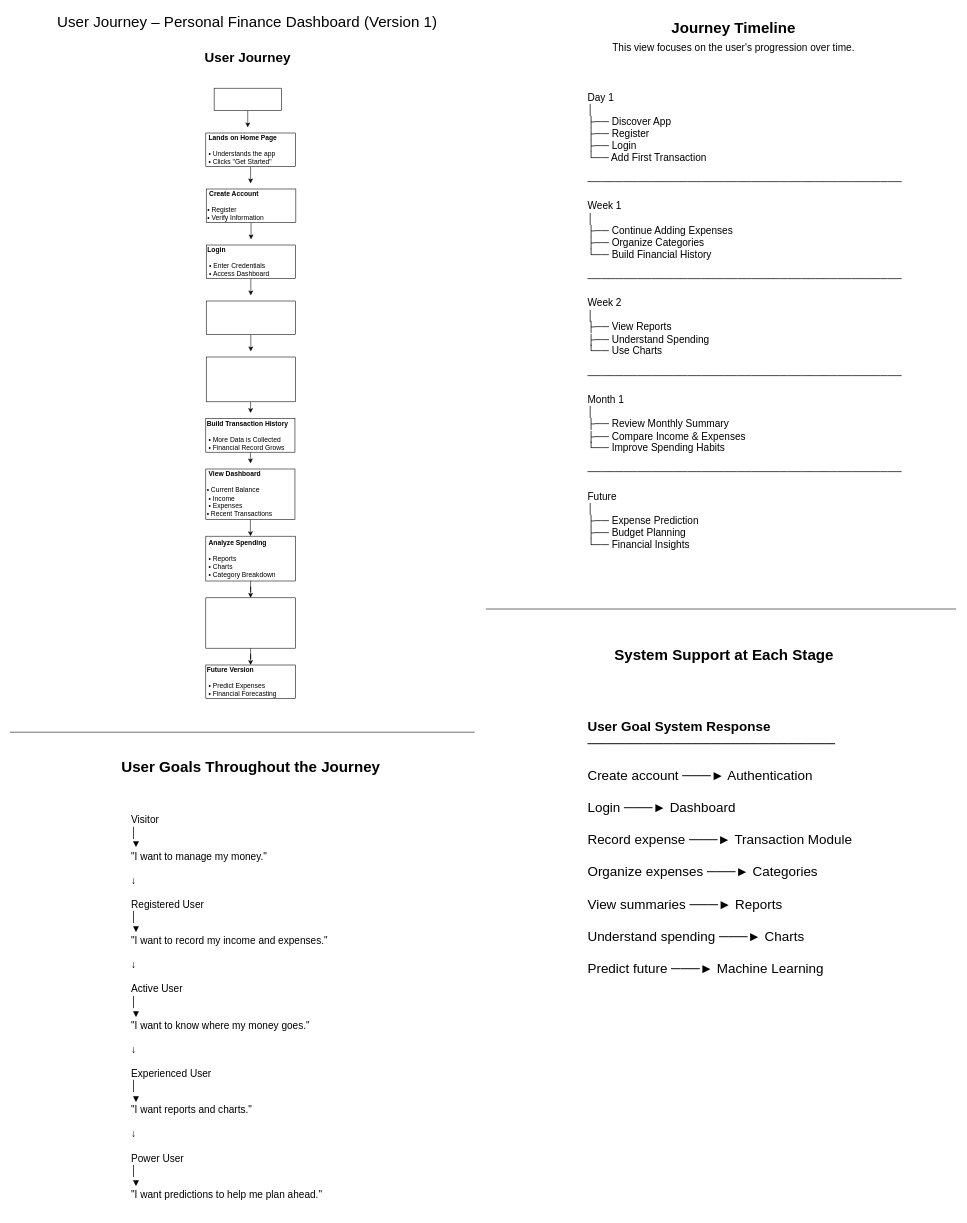
The diagram is 967 pixels wide and 1223 high, and some of its shapes have lost their labels. The centre of each missing label's shape, as x and y in pixels:
"First-Time Setup • Add Categories • Learn Dashboard Layout" belongs at (x=250, y=317).
"Make Better Decisions • Reduce Expenses • Increase Savings • Understand Spending" belongs at (x=250, y=622).
"Start Recording Finances • Add Income • Add Expenses • Write Descriptions" belongs at (x=250, y=379).
"Visitor" belongs at (x=247, y=99).
